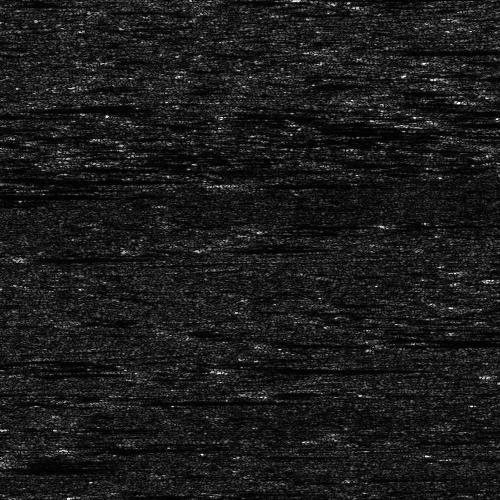object: (0, 251, 77, 262), (226, 179, 289, 188), (454, 275, 500, 282), (0, 175, 24, 182), (205, 244, 246, 247), (0, 188, 7, 197)
shadow: (0, 188, 193, 197), (31, 251, 163, 262), (258, 179, 403, 188), (0, 175, 174, 182), (226, 244, 320, 247), (486, 275, 500, 282)
